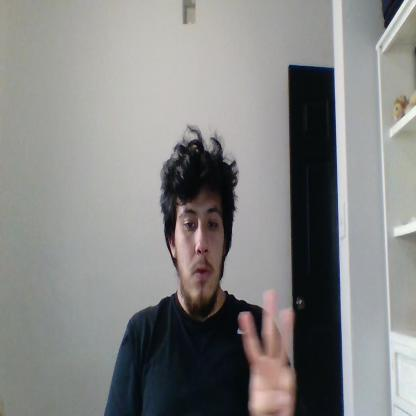W: (239, 288, 297, 415)
